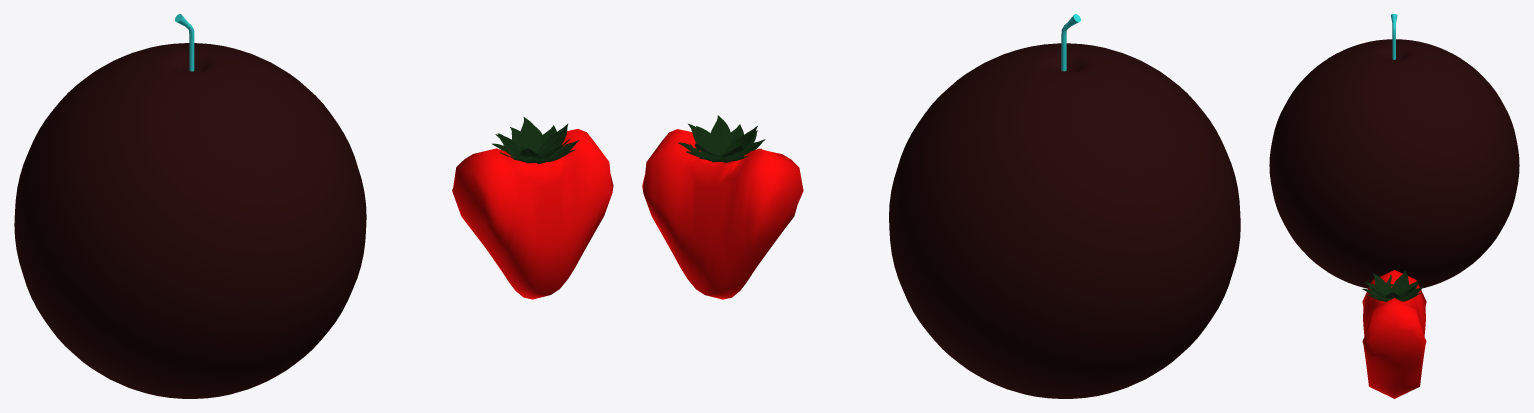
File: LunchRoomItems.fbx
The picture shows the model from 3 angles, left to right: view 1: azimuth 30°, elevation 25°; view 2: azimuth 150°, elevation 25°; view 3: azimuth 270°, elevation 25°; orthographic projection. The views are drawn at different scales.
Parts seen in each view (by area): view 1: lunchItems; view 2: lunchItems; view 3: lunchItems.
Boxes of the visible parts, x1=… form: lunchItems: x1=14, y1=14, x2=613, y2=398; lunchItems: x1=642, y1=14, x2=1240, y2=398; lunchItems: x1=1269, y1=14, x2=1519, y2=398.
Bounding box in the file's own units: 1.06 × 0.6735 × 0.5799.
